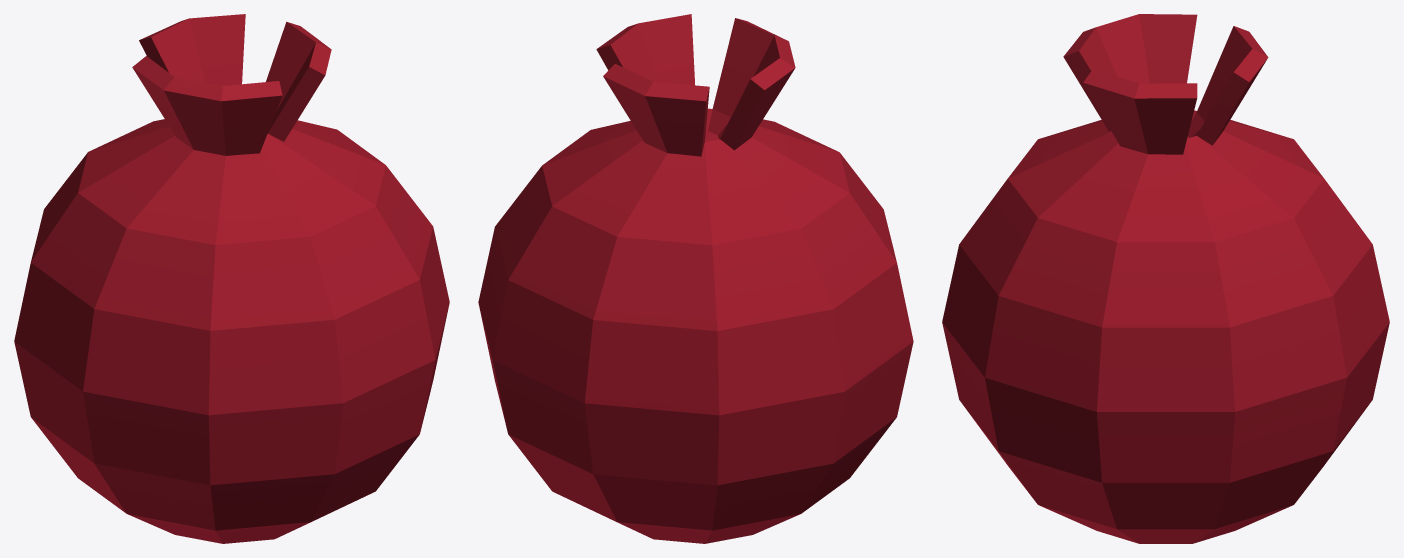
Rendered from Pomegranate.fbx.
3 renders of one model, left to right at view 1: azimuth 30°, elevation 25°; view 2: azimuth 150°, elevation 25°; view 3: azimuth 270°, elevation 25°, orthographic.
Visible parts, largest first — view 1: Pomegranate; view 2: Pomegranate; view 3: Pomegranate.
Part boxes in pixels (bbox=[...]): Pomegranate: bbox=[14, 14, 449, 543]; Pomegranate: bbox=[478, 14, 913, 543]; Pomegranate: bbox=[942, 14, 1389, 543].
Bounding box in the file's own units: 14.43 × 17.81 × 15.18.
